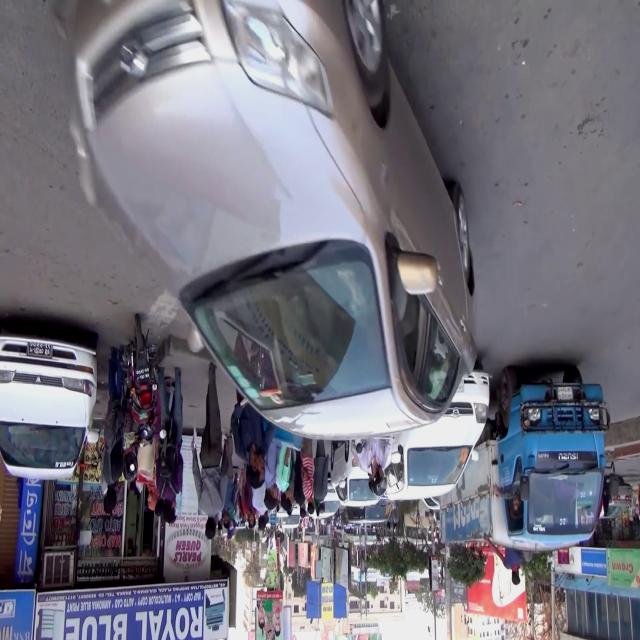silver: (51, 0, 493, 428)
white: (0, 316, 99, 489), (380, 364, 488, 494), (329, 437, 383, 512)
